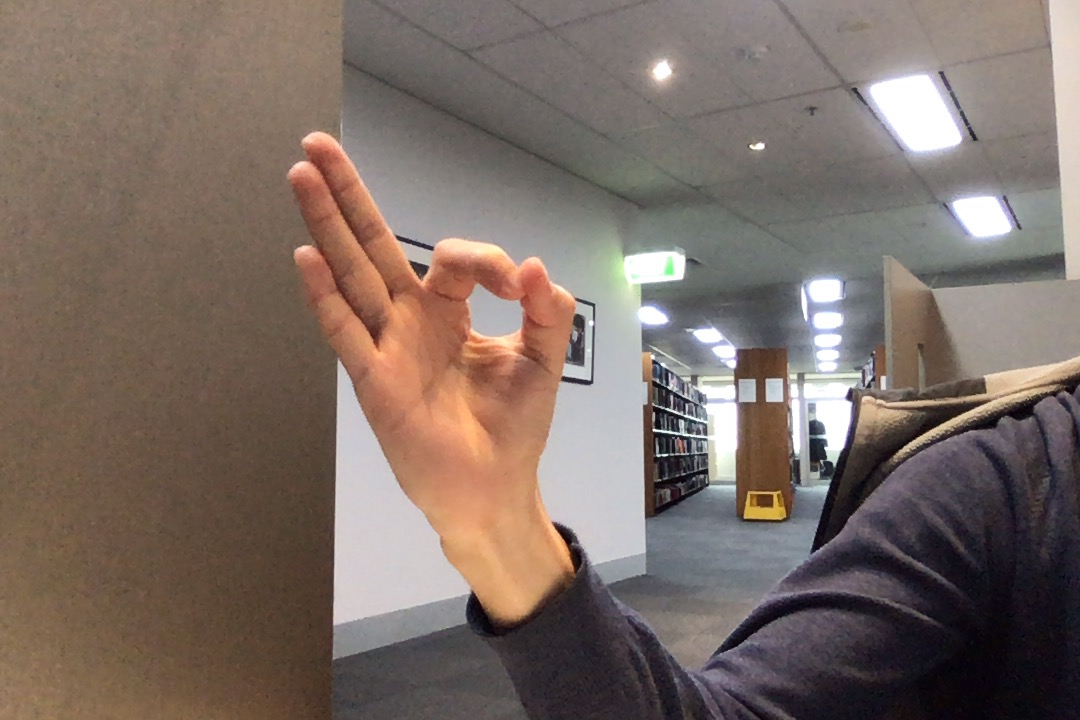oksign: (273, 121, 586, 508)
